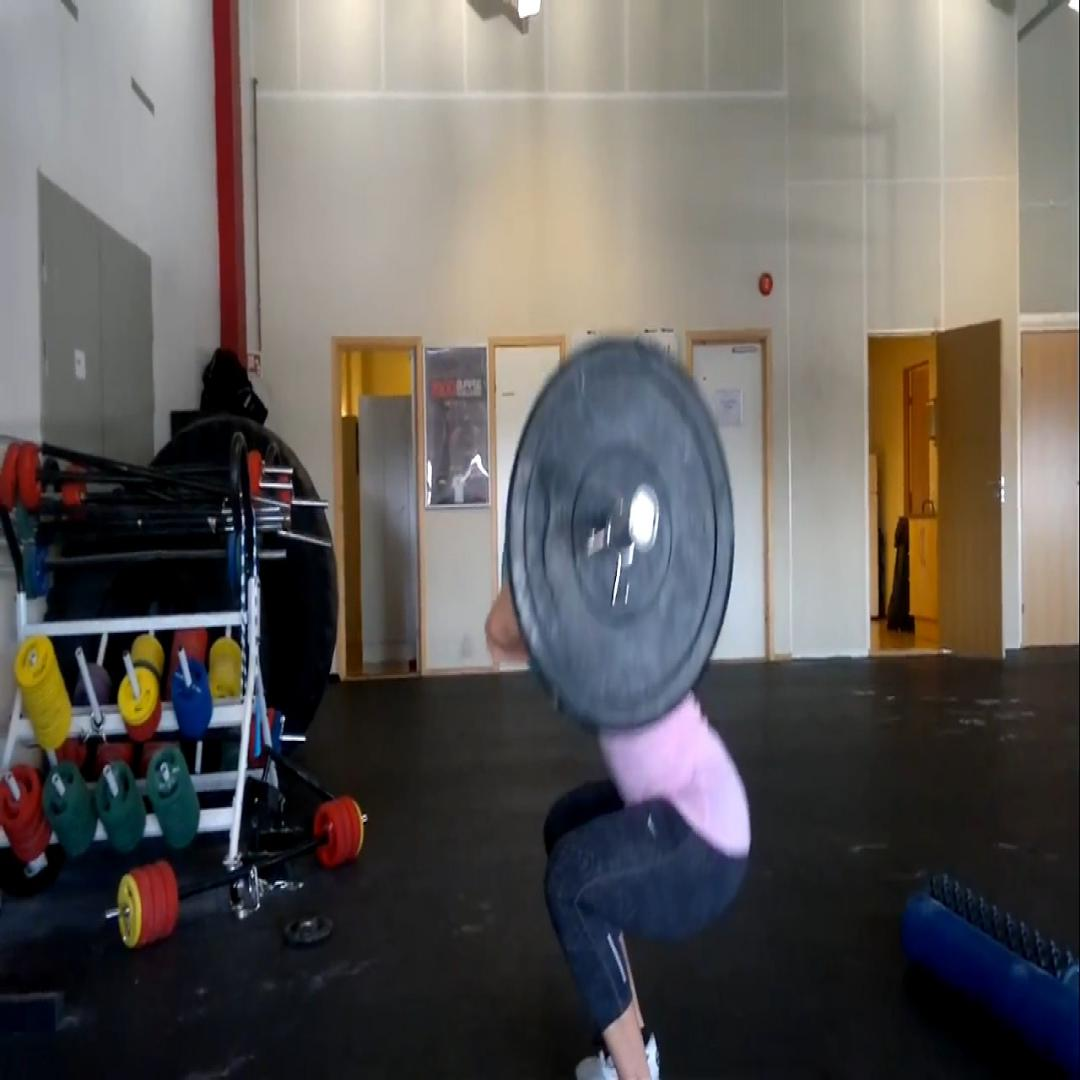Bar: (626, 480, 662, 555)
Barbell: (507, 340, 734, 730)
